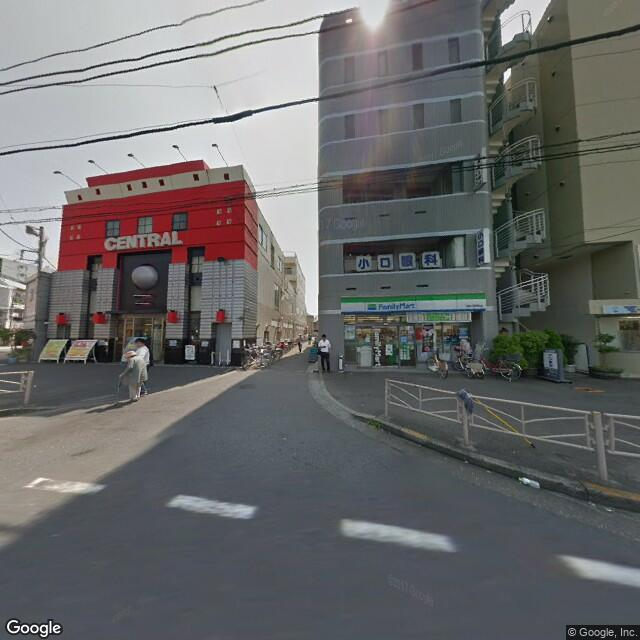family_mart: (341, 290, 487, 319)
